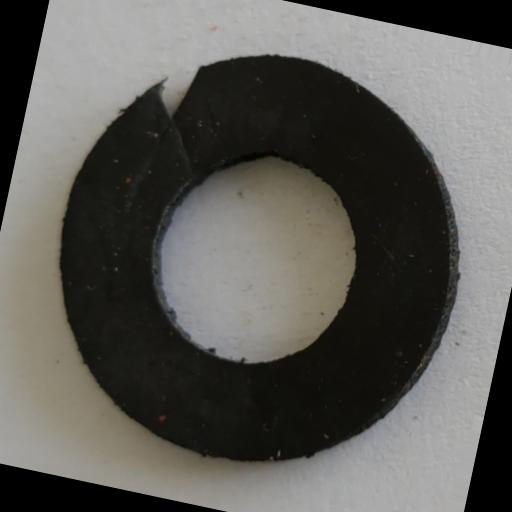defect: (138, 56, 207, 167)
